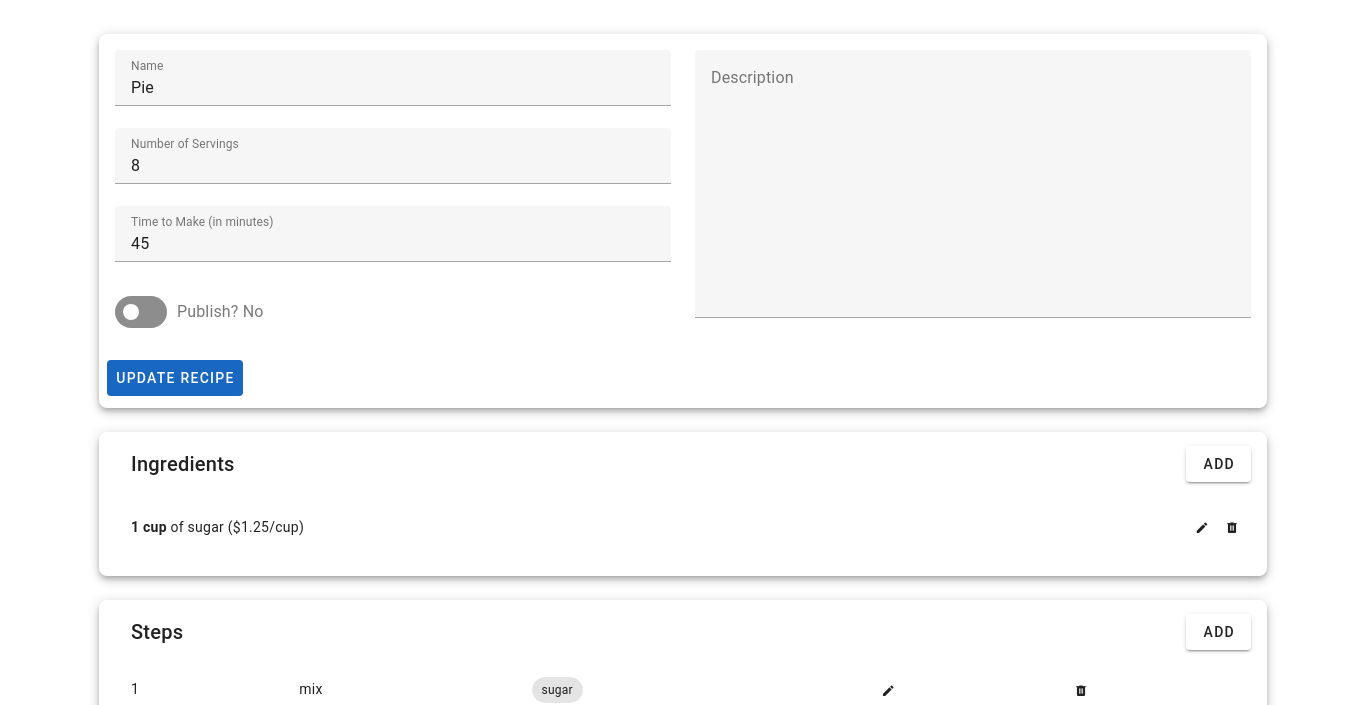
Test: Feature 3 — Recipe Management › US-3.8 — Edit and Delete Steps from a recipe › Edit Step on a recipe
The width and height of the screenshot is (1366, 705).
Step 1. Click the 2nd button with class "mdi-pencil" → (888,691), box [881,684,895,698]
(page scrolled)
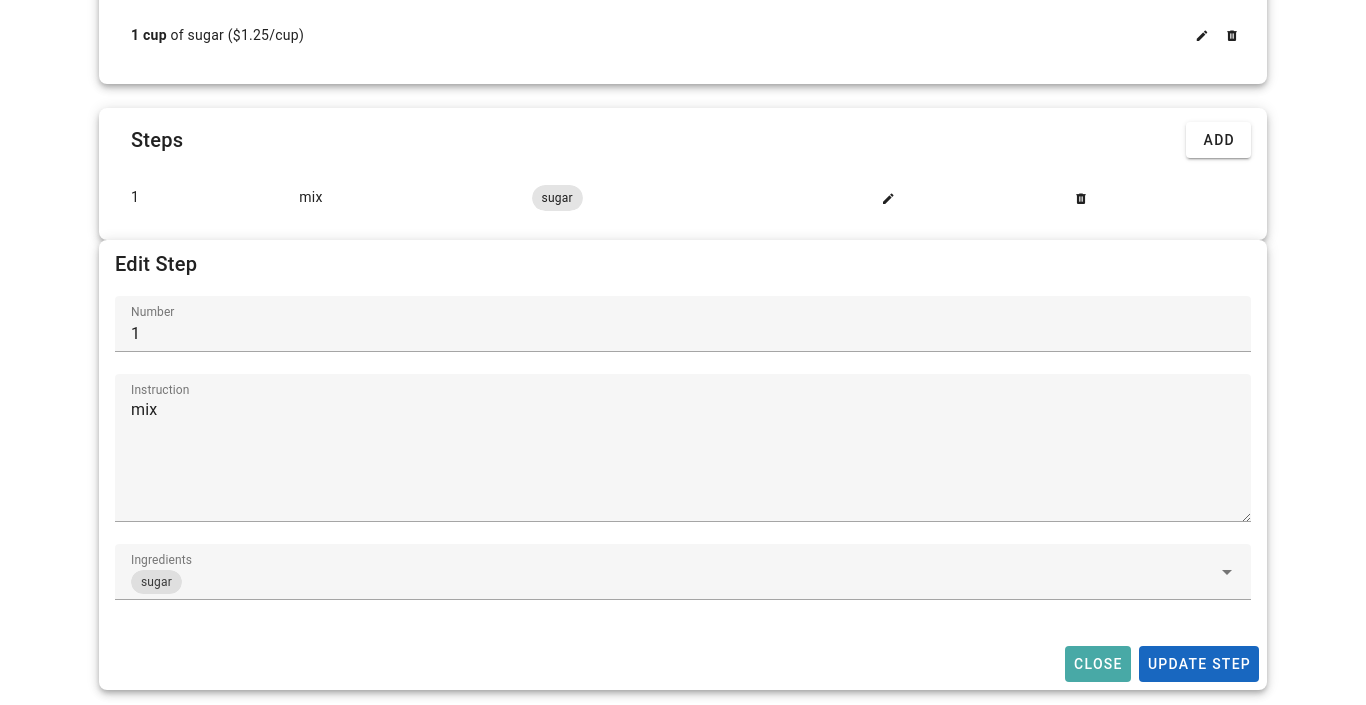
Expected: the text "Edit Step" is shown, [115,252,197,276]
Step 2. Replace the text in the text box labelled "Instruction" with "mix in a bowl" → (683,448), box [115,374,1251,522]
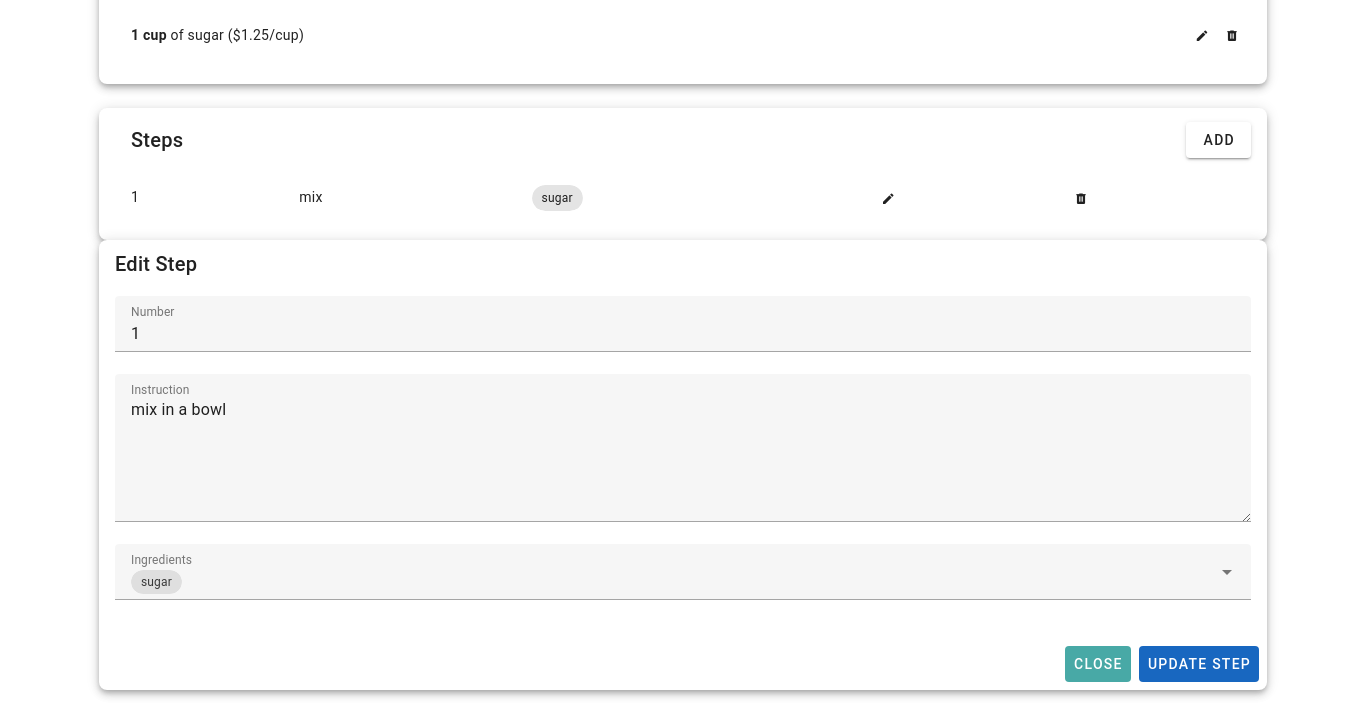
Step 3. Click the button "Update Step" → (1199,664), box [1139,646,1259,682]
(page scrolled)
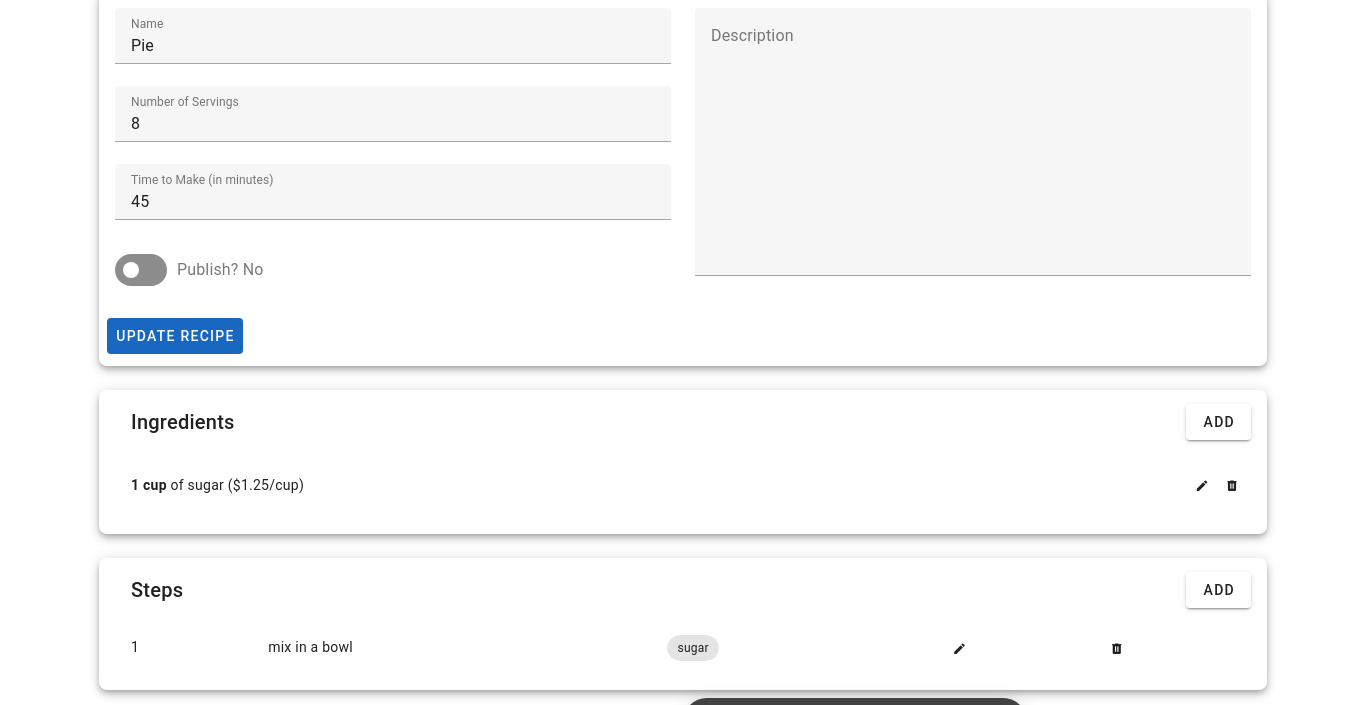
Expected: the cell "mix in a bowl" is shown, [252,622,651,674]
Expected: the text "mix in a bowl" is shown, [252,622,651,674]
